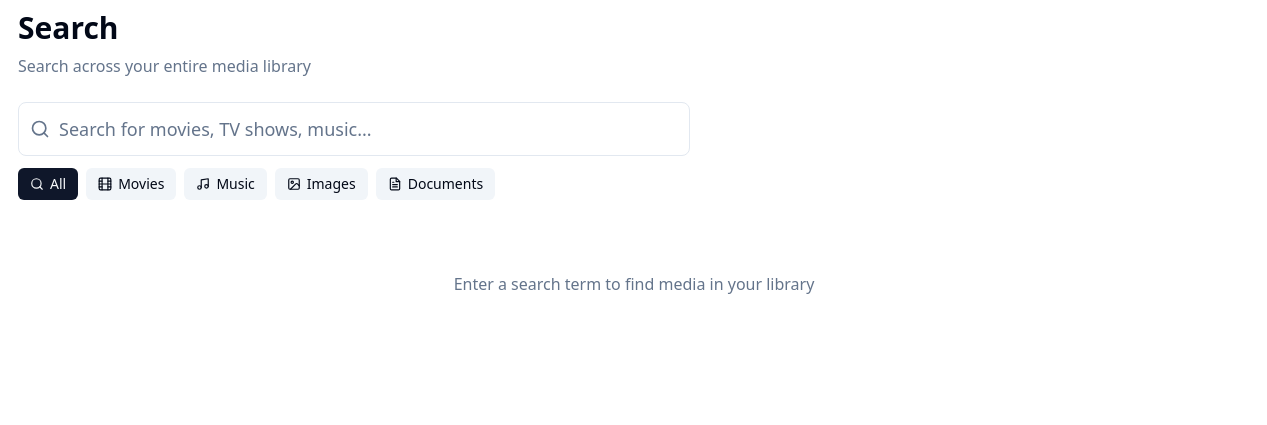
Test case: SearchPage › shows error message when search fails
Step 1. Type "broken search" into the field with placeholder "Search for movies, TV shows, music..." → (354,129), box [18,102,690,156]
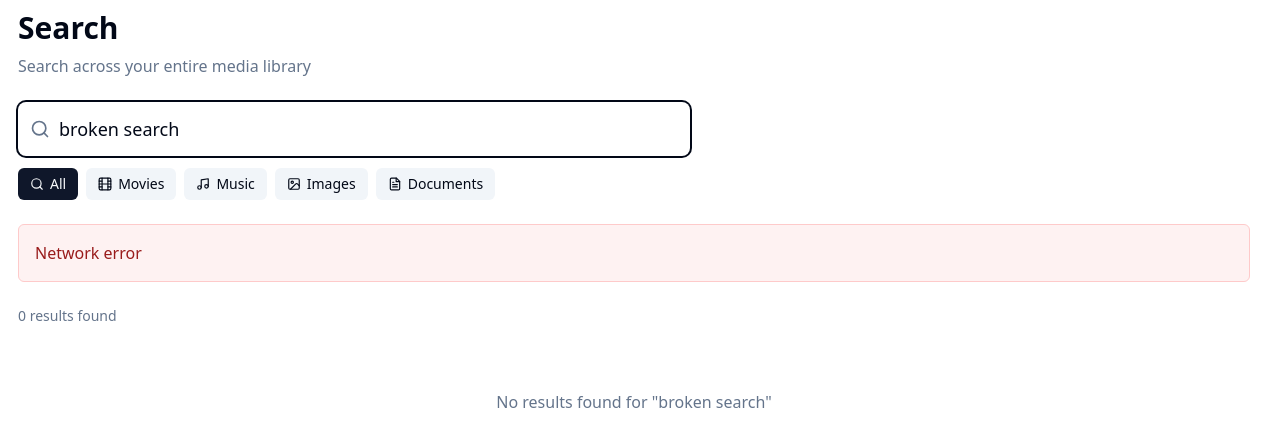
Expected: the text "Network error" is shown, [18,224,1250,282]
